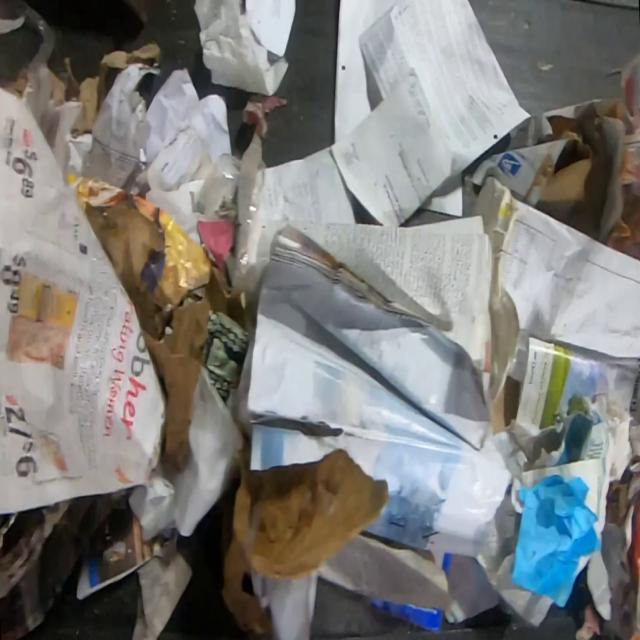cardboard: (218, 438, 390, 636), (468, 97, 640, 244), (144, 266, 245, 474), (72, 39, 161, 131)
soft_plastic: (196, 132, 268, 275), (9, 0, 59, 150)
